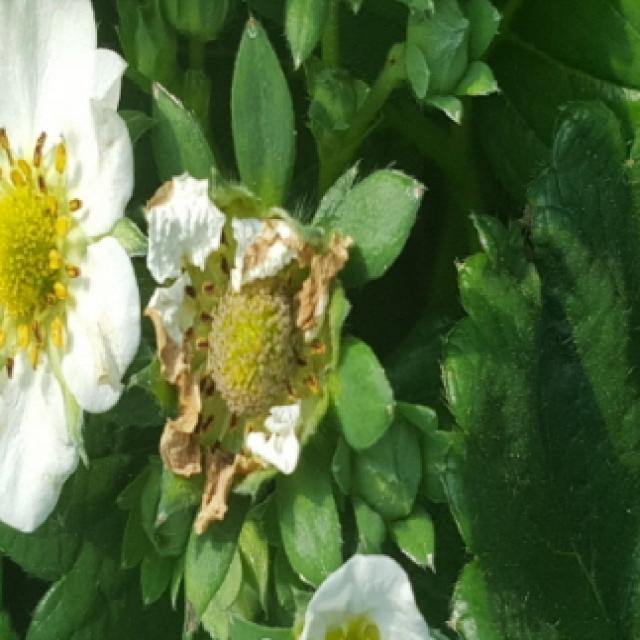Blossom Blight: (174, 226, 333, 466), (0, 124, 87, 382)
